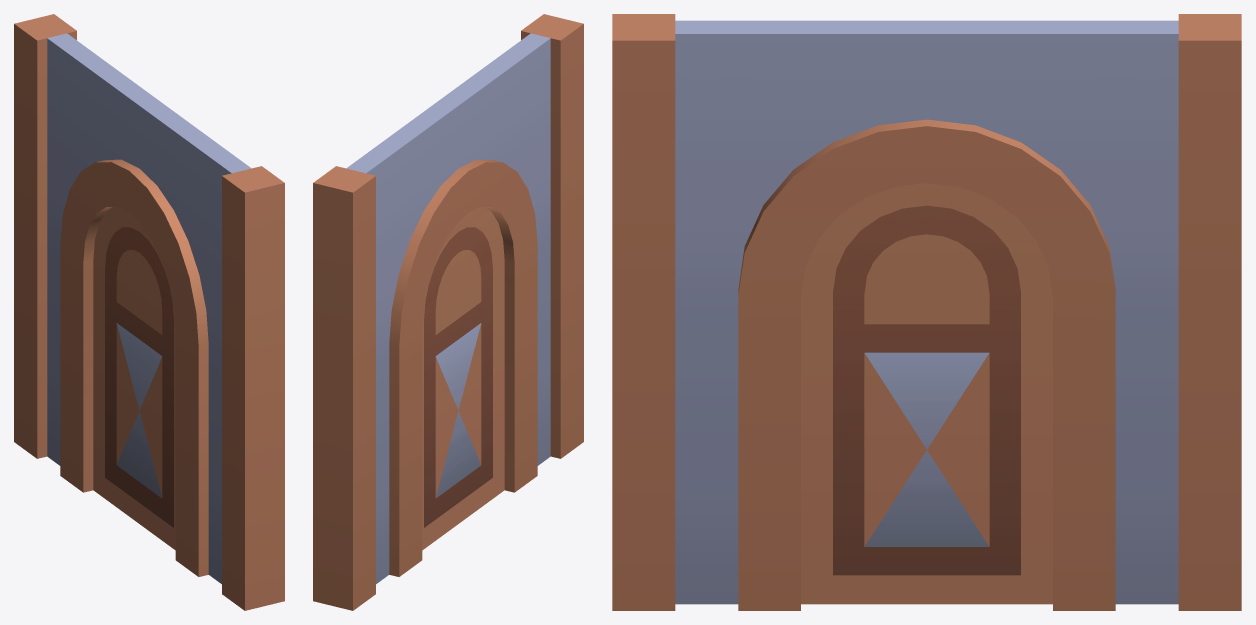
The model's file is ot-wall-door.glb.
3 renders of one model, left to right at view 1: azimuth 30°, elevation 25°; view 2: azimuth 150°, elevation 25°; view 3: azimuth 270°, elevation 25°, orthographic. The views are drawn at different scales.
Parts seen in each view (by area): view 1: wall-door; view 2: wall-door; view 3: wall-door.
Boxes of the visible parts, x1,y1,x2,y2 form: wall-door: [14, 14, 284, 610]; wall-door: [313, 14, 583, 610]; wall-door: [612, 14, 1241, 610].
Bounding box in the file's own units: 0.1 × 1 × 1.
1 material, 1 textured.
